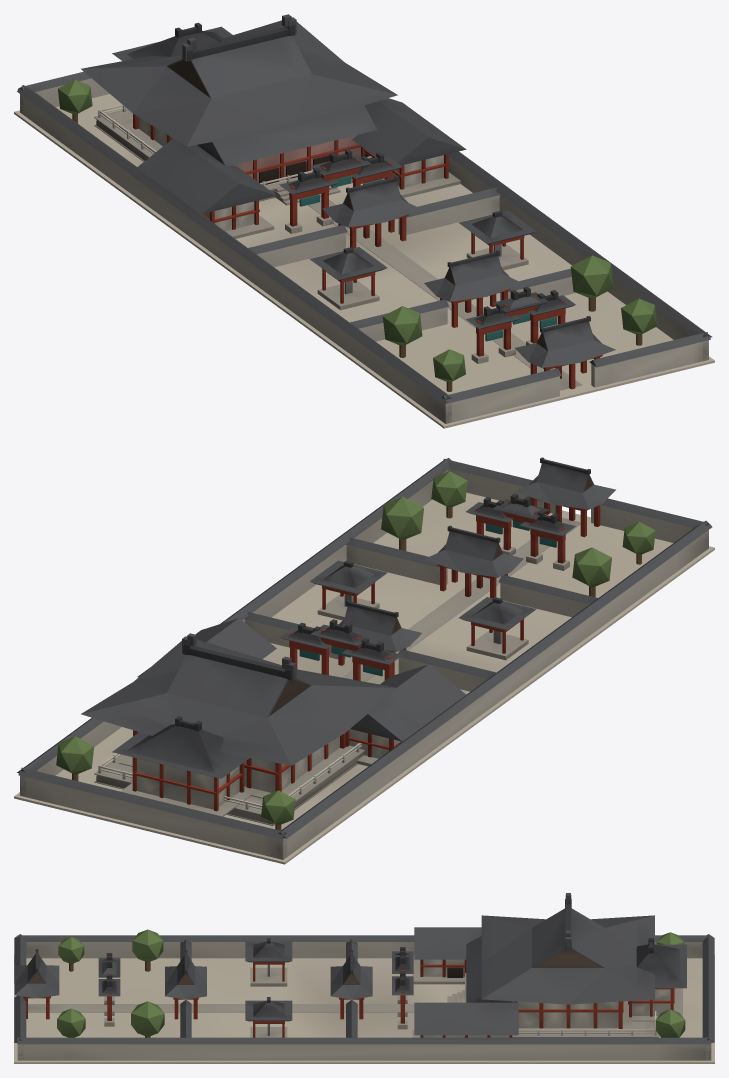
File: synagogue.glb
3 views of the same model, one above another, from view 1: azimuth 30°, elevation 25°; view 2: azimuth 150°, elevation 25°; view 3: azimuth 270°, elevation 25° (orthographic). The views are drawn at different scales.
Visible parts, largest first — view 1: p0_hall, p2_trees, p1_halls; view 2: p0_hall, p2_trees, p1_halls; view 3: p0_hall, p2_trees, p1_halls.
Part boxes in pixels (box(x1,y1,x2,y2)): p0_hall: box(14, 71, 714, 428); p2_trees: box(58, 14, 657, 391); p1_halls: box(119, 114, 615, 389); p0_hall: box(14, 458, 714, 864); p2_trees: box(56, 471, 655, 830); p1_halls: box(119, 457, 615, 816); p0_hall: box(14, 934, 714, 1063); p2_trees: box(57, 893, 686, 1037); p1_halls: box(14, 938, 682, 1037).
Bounding box in the file's own units: 40 × 16.83 × 110.
